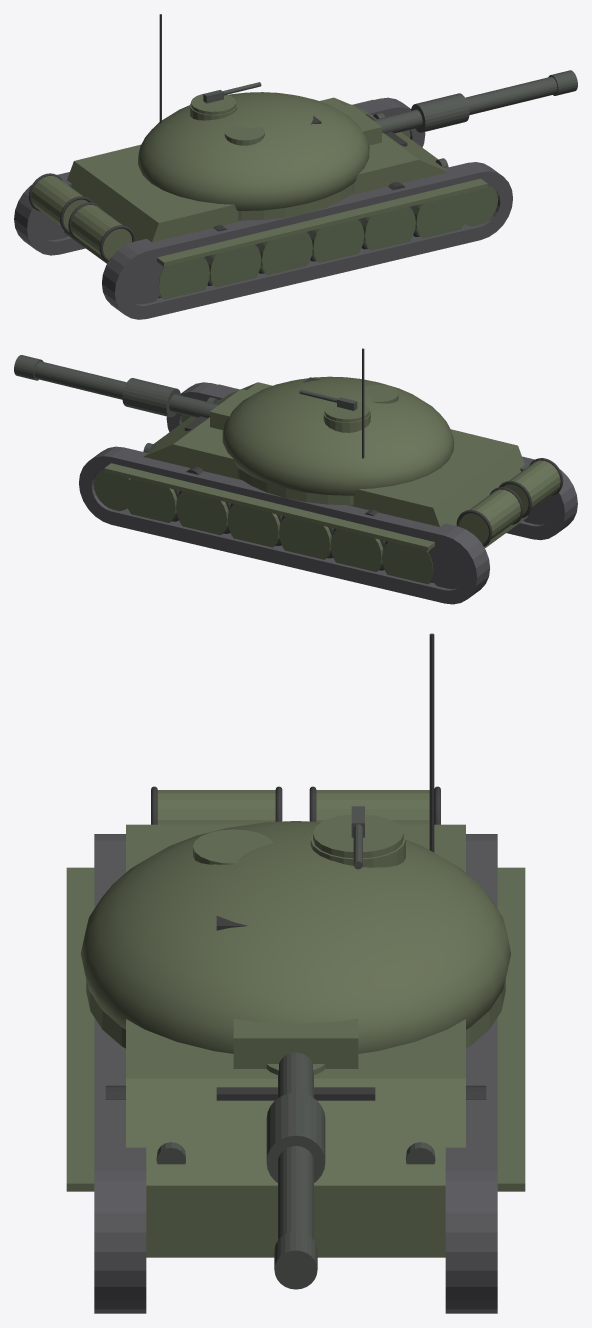
Rendered from T72_tank.fbx.
3 views of the same model, one above another, from view 1: azimuth 30°, elevation 25°; view 2: azimuth 150°, elevation 25°; view 3: azimuth 270°, elevation 25° (orthographic). The views are drawn at different scales.
Parts seen in each view (by area): view 1: Turret, Track_R, Hull_Upper, Fender_R, Track_L, Gun_Barrel, FuelDrum_1, RoadWheel_R_5, RoadWheel_R_4, RoadWheel_R_3, RoadWheel_R_2, RoadWheel_R_1 (+11 smaller); view 2: Turret, Track_L, Hull_Upper, Fender_L, Track_R, Gun_Barrel, FuelDrum_0, RoadWheel_L_5, RoadWheel_L_4, RoadWheel_L_3, RoadWheel_L_2, RoadWheel_L_1 (+12 smaller); view 3: Turret, Hull_Upper, Hull_Lower, Track_L, Track_R, Fender_L, Fender_R, Mantlet, Gun_Barrel, FuelDrum_1, Bore_Evacuator, FuelDrum_0 (+7 smaller).
Part boxes in pixels (x1,y1,x2,y2): Turret: [138, 92, 369, 210]; Track_R: [102, 162, 512, 319]; Hull_Upper: [67, 97, 448, 242]; Fender_R: [157, 178, 487, 266]; Track_L: [14, 97, 425, 255]; Gun_Barrel: [373, 76, 557, 133]; FuelDrum_1: [71, 205, 132, 259]; RoadWheel_R_5: [414, 194, 467, 238]; RoadWheel_R_4: [363, 207, 415, 250]; RoadWheel_R_3: [311, 219, 364, 262]; RoadWheel_R_2: [260, 232, 312, 275]; RoadWheel_R_1: [208, 244, 261, 287]; Turret: [222, 376, 453, 495]; Track_L: [79, 446, 489, 604]; Hull_Upper: [143, 382, 524, 526]; Fender_L: [104, 463, 434, 551]; Track_R: [166, 382, 577, 540]; Gun_Barrel: [34, 361, 218, 417]; FuelDrum_0: [459, 489, 520, 543]; RoadWheel_L_5: [124, 479, 177, 522]; RoadWheel_L_4: [176, 491, 228, 535]; RoadWheel_L_3: [227, 504, 280, 547]; RoadWheel_L_2: [279, 516, 331, 559]; RoadWheel_L_1: [330, 529, 383, 571]; Turret: [80, 821, 511, 1053]; Hull_Upper: [126, 824, 465, 1185]; Hull_Lower: [146, 1185, 445, 1257]; Track_L: [445, 834, 497, 1313]; Track_R: [94, 834, 146, 1313]; Fender_L: [497, 867, 525, 1191]; Fender_R: [66, 867, 94, 1191]; Mantlet: [233, 1018, 358, 1068]; Gun_Barrel: [278, 1052, 313, 1286]; FuelDrum_1: [157, 790, 275, 824]; Bore_Evacuator: [266, 1092, 325, 1182]; FuelDrum_0: [316, 790, 429, 824].
Size of the model in its own units: 1036 by 431 by 405.
